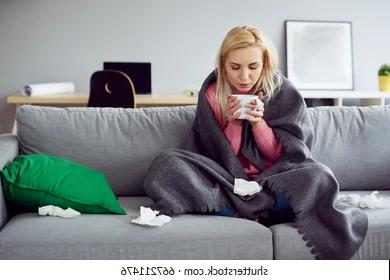blanket: (142, 67, 369, 260)
sweater: (205, 81, 283, 178)
